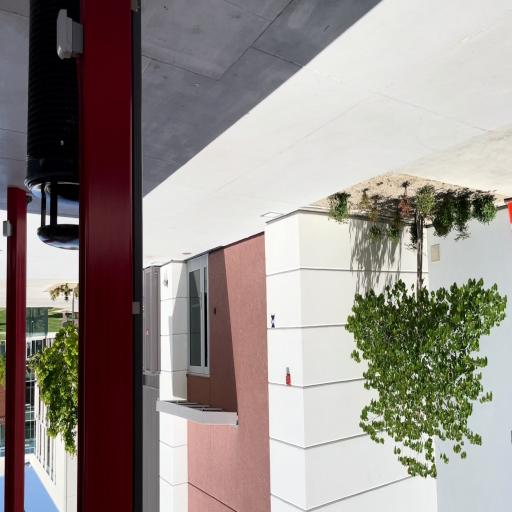target9: (271, 315, 275, 328)
